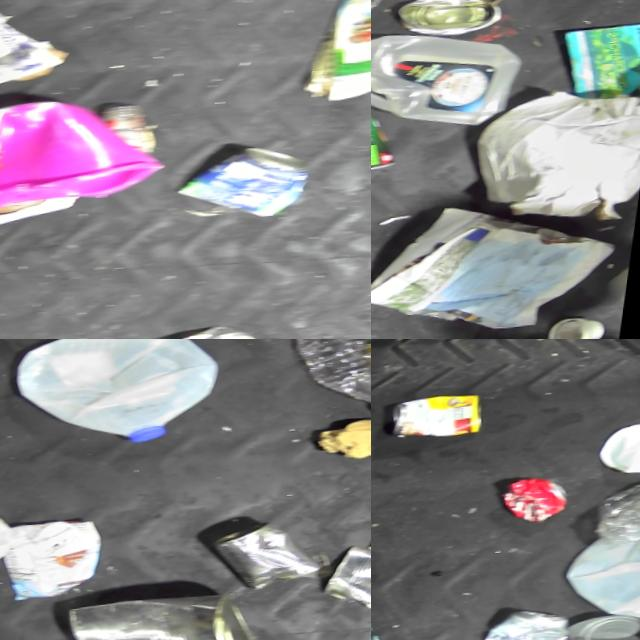can: (178, 143, 324, 230), (62, 589, 282, 640), (213, 522, 335, 601), (395, 0, 514, 46), (387, 391, 490, 440), (502, 475, 576, 529), (371, 108, 415, 185), (328, 546, 371, 621), (485, 608, 578, 640), (163, 321, 275, 339), (572, 616, 640, 640)
milk_jug: (6, 339, 231, 456), (371, 27, 534, 141), (3, 517, 114, 606), (565, 520, 640, 640)
non_white_jug: (0, 84, 178, 221)
plastic_bottle: (283, 339, 371, 429)
